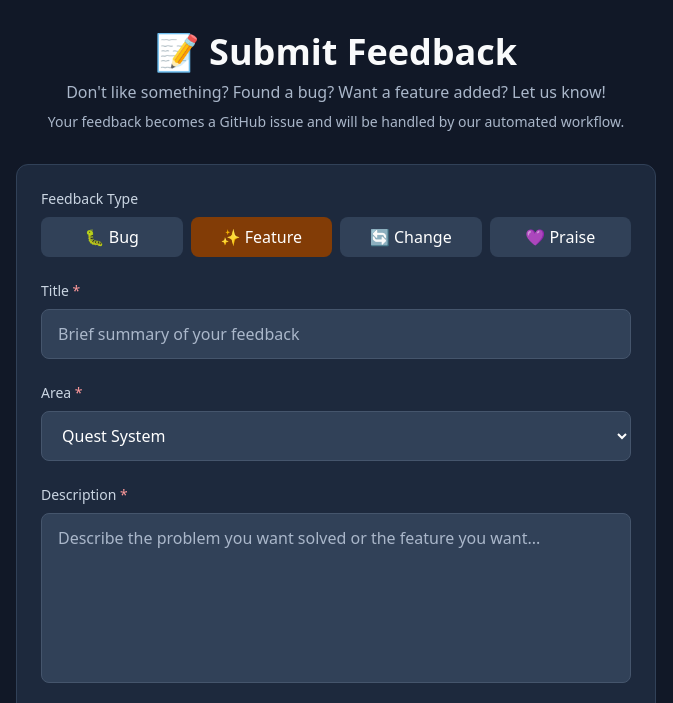
FeedbackPage › posts the report as a GitHub issue carrying the hero context
The width and height of the screenshot is (673, 703).
Click the button "🔄 Change": (411, 237) [340,217,482,257]
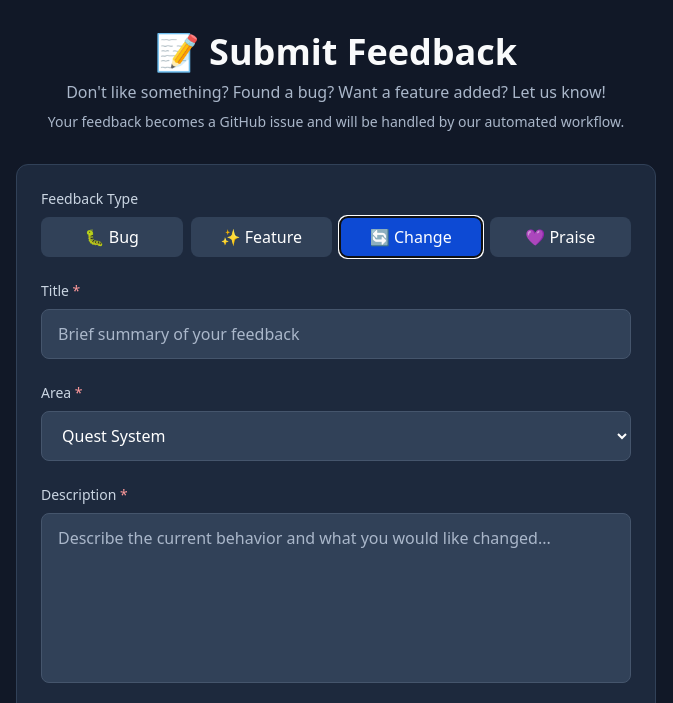
In the field labelled "Title *": (336, 334) [41,309,631,359], type "Quest progress resets"
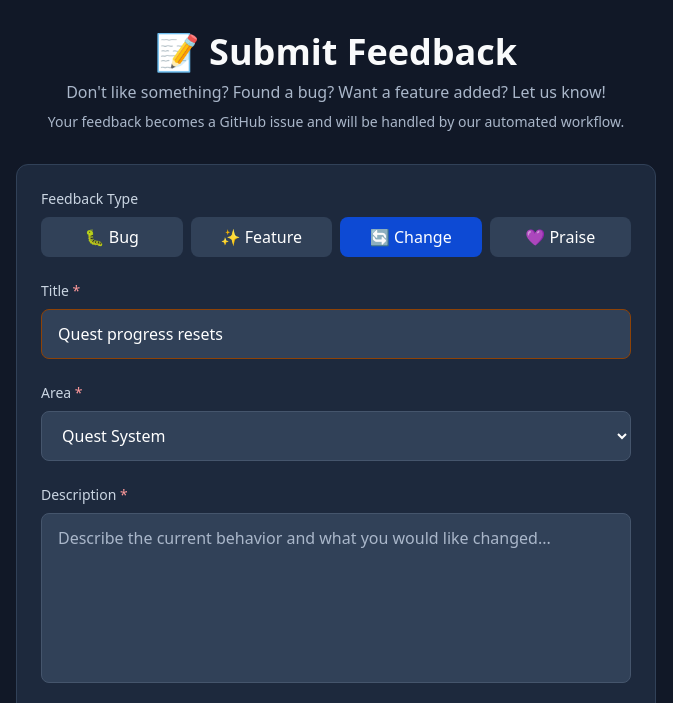
In the text box labelled "Description *": (336, 598) [41,513,631,683], type "Reloading the page loses my badges."
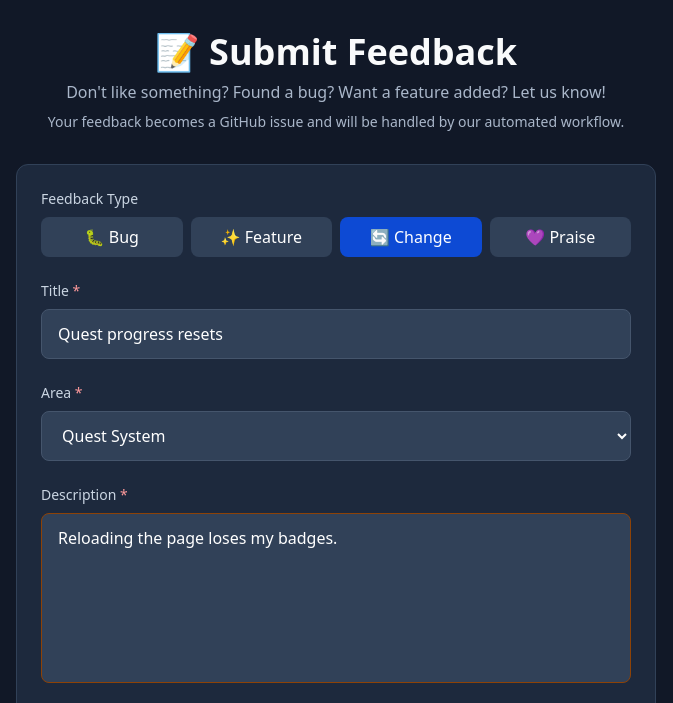
Select "World Map" in the dropdown labelled "Area *": (336, 436) [41,411,631,461]
(page scrolled)
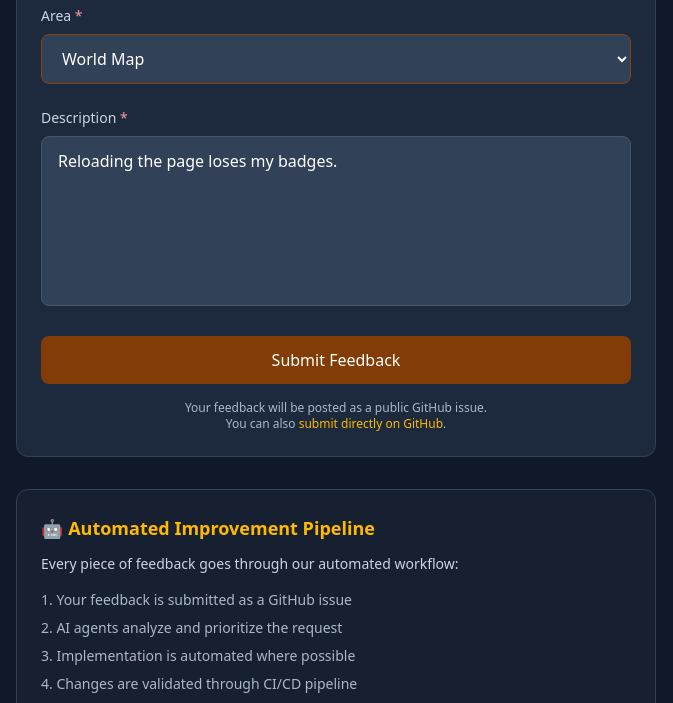
Click the button "Submit Feedback": (336, 360) [41,336,631,384]
(page scrolled)
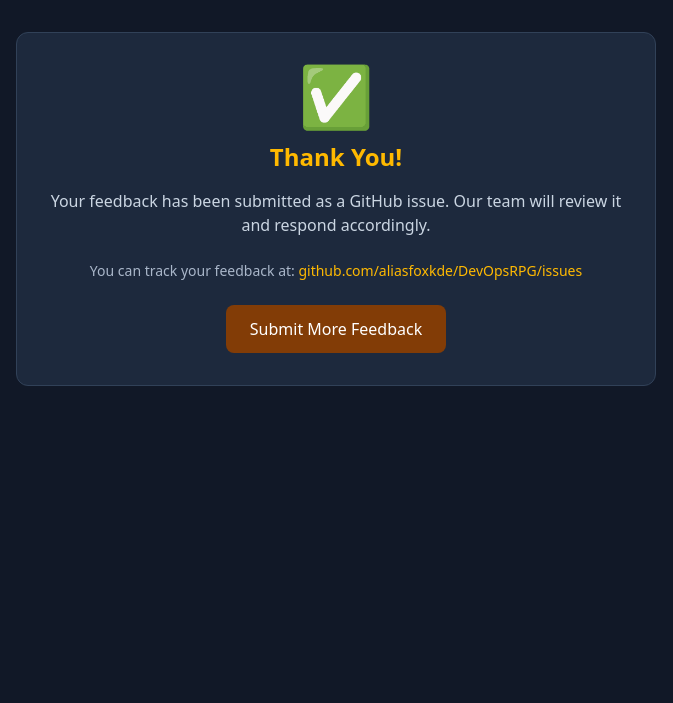
Now the heading "Thank You!" is shown, box [270,140,402,173]
